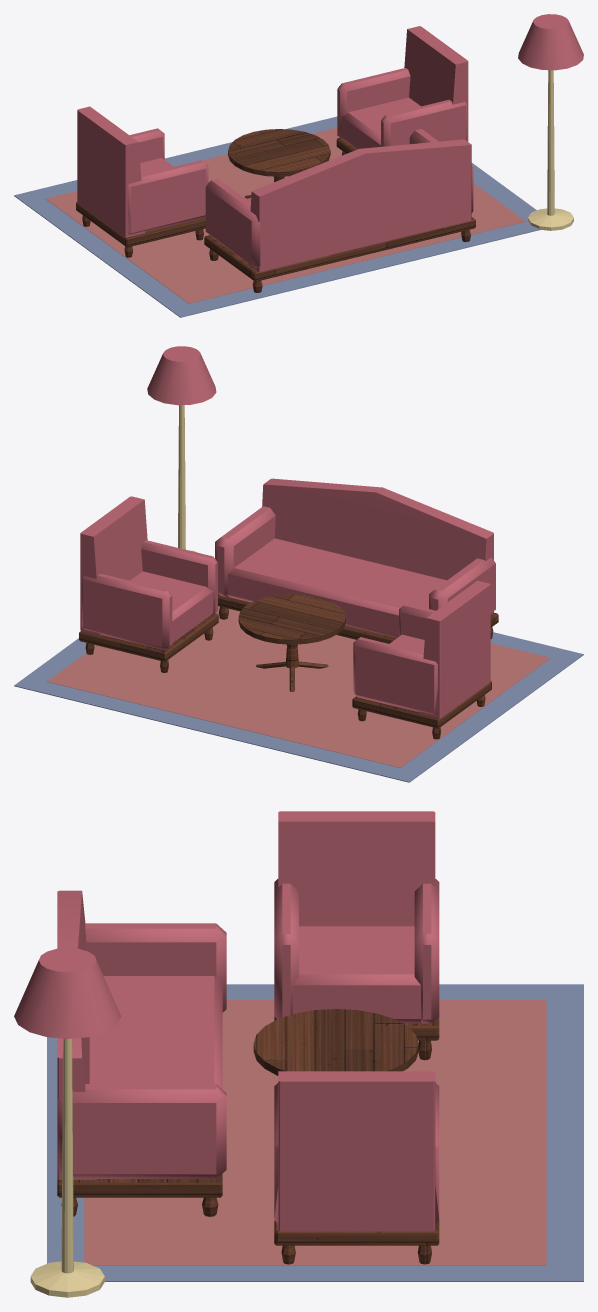
File: parlor_set.glb
3 views of the same model, one above another, from view 1: azimuth 30°, elevation 25°; view 2: azimuth 150°, elevation 25°; view 3: azimuth 270°, elevation 25° (orthographic). The views are drawn at different scales.
Parts seen in each view (by area): view 1: parlor_set_velvet, parlor_set_rug, parlor_set_rug2, parlor_set_dkwood, parlor_set_brass; view 2: parlor_set_velvet, parlor_set_rug, parlor_set_rug2, parlor_set_dkwood, parlor_set_brass; view 3: parlor_set_velvet, parlor_set_rug, parlor_set_rug2, parlor_set_dkwood, parlor_set_brass.
Boxes of the visible parts, x1,y1,x2,y2 form: parlor_set_velvet: (77,14,583,271); parlor_set_rug: (45,127,525,303); parlor_set_rug2: (14,116,541,317); parlor_set_dkwood: (76,129,475,292); parlor_set_brass: (528,70,573,230); parlor_set_velvet: (80,346,495,718); parlor_set_rug: (47,606,550,767); parlor_set_rug2: (14,632,583,782); parlor_set_dkwood: (79,593,498,739); parlor_set_brass: (178,405,197,552); parlor_set_velvet: (14,811,439,1231); parlor_set_rug: (84,999,546,1265); parlor_set_rug2: (47,984,583,1281); parlor_set_dkwood: (57,1009,439,1264); parlor_set_brass: (30,1038,104,1297).
Bounding box in the file's own units: 3.66 × 1.74 × 2.76.
Materials: 5 (1 with a texture image).
